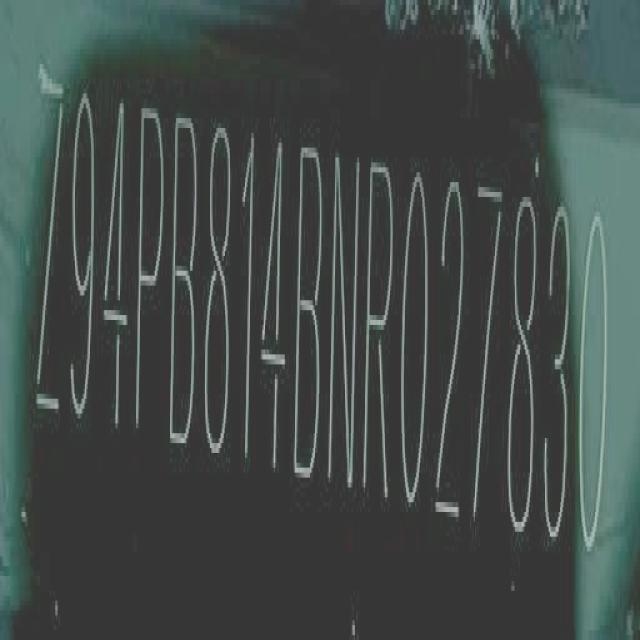0: (396, 173, 432, 503), (578, 213, 610, 554)
1: (242, 137, 258, 465)
2: (435, 170, 463, 523)
3: (544, 186, 572, 558)
4: (259, 131, 288, 483), (101, 95, 130, 434)
7: (475, 182, 505, 538)
8: (203, 117, 234, 461), (507, 192, 537, 544)
9: (68, 86, 98, 427)
B: (294, 137, 324, 487), (170, 107, 198, 456)
N: (322, 146, 363, 490)
P: (135, 102, 165, 432)
R: (364, 157, 396, 496)
Z: (36, 46, 65, 436)
